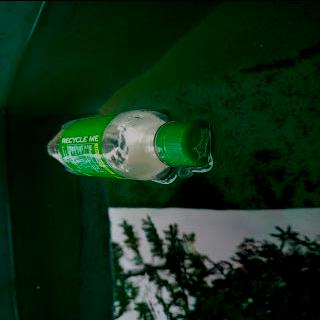bottle: (41, 106, 214, 182)
